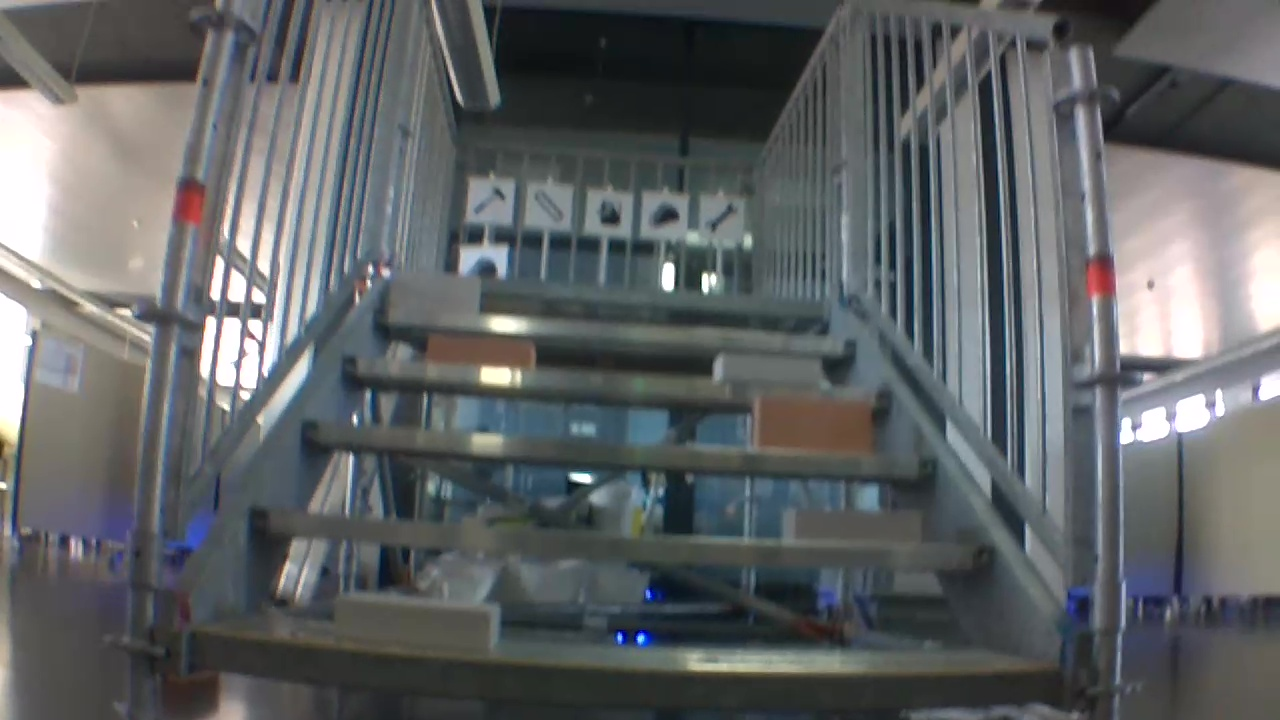brick: (330, 596, 515, 646), (743, 400, 875, 444), (777, 507, 925, 542), (384, 273, 491, 309), (703, 358, 821, 383), (424, 339, 530, 359)
bucket: (594, 196, 626, 227)
edge: (187, 628, 1073, 705), (253, 502, 986, 568), (308, 423, 941, 480), (345, 357, 879, 403), (369, 309, 853, 352)
hammer: (475, 183, 508, 215)
ruler: (533, 191, 569, 223)
stairs: (128, 0, 1123, 714)
steps: (168, 277, 1066, 680)
taco: (652, 204, 684, 226), (475, 254, 499, 272)
wrench: (706, 200, 740, 233)
